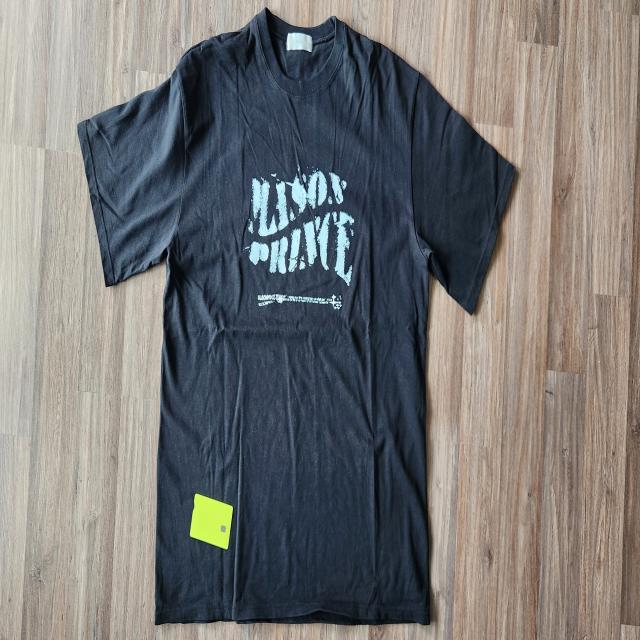card: (189, 492, 233, 551)
